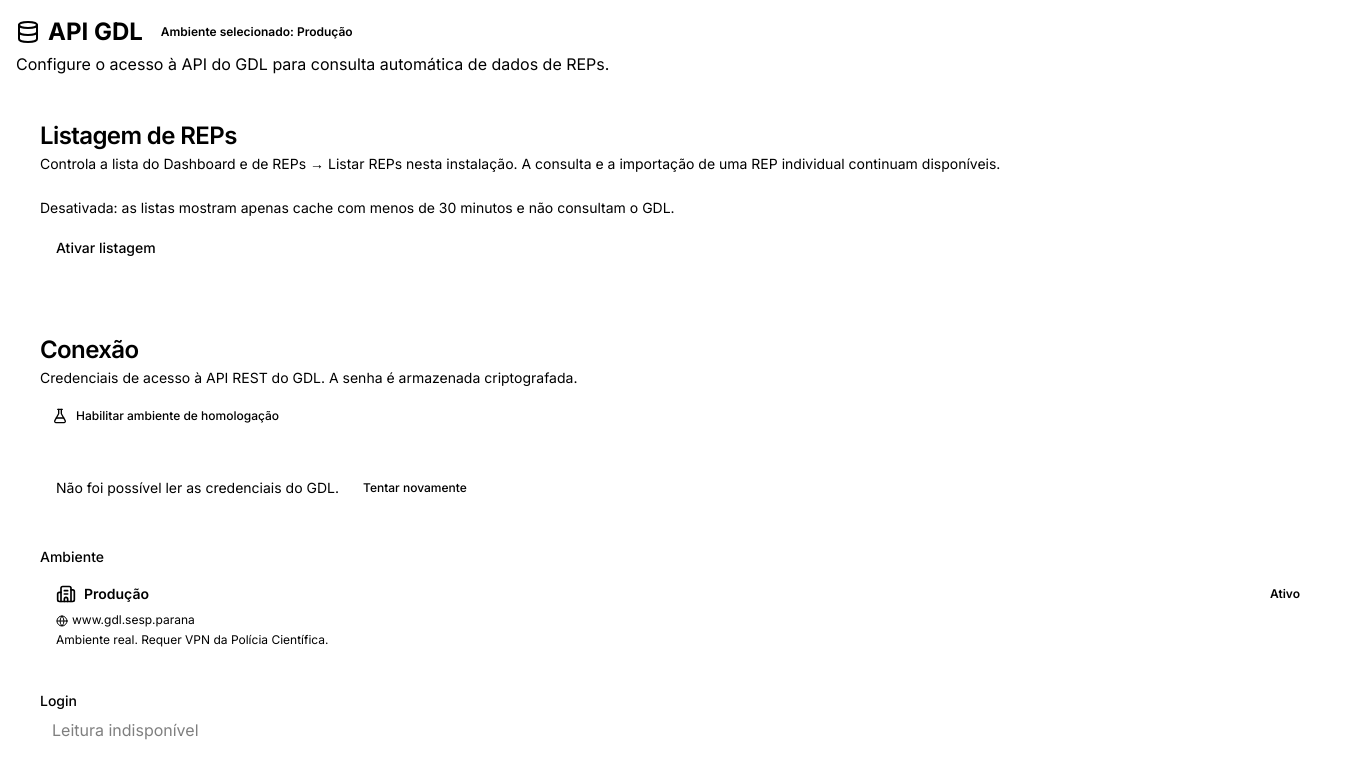
Test: GdlConfigPage › falha ao ler senha sem tratá-la como ausente e preserva edição na nova tentativa
This screenshot has width=1366, height=765.
Check: the text "Não foi possível ler as credenciais do GDL." is shown, box [56,479,339,496]
In the field labelled "Login": (683,730) [40,712,1326,748], type "edicao-local"
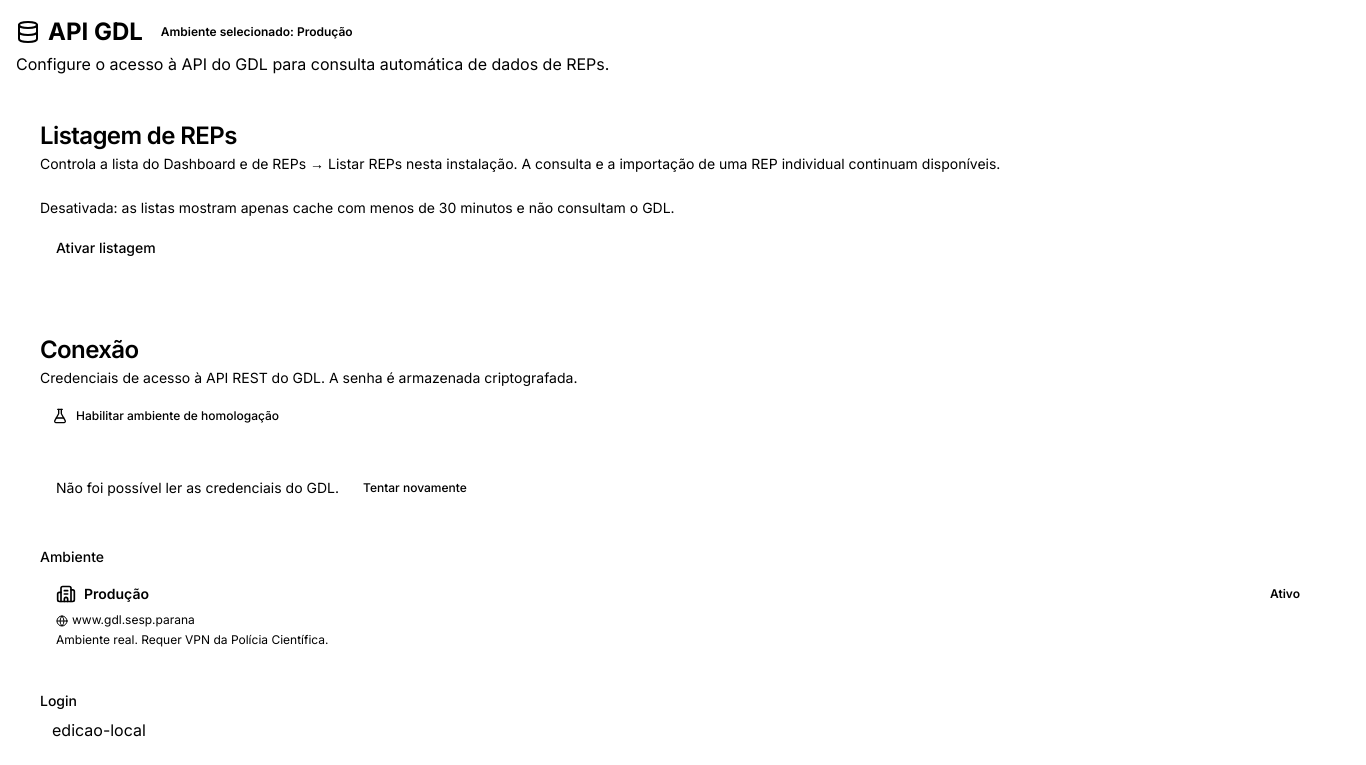
Click the button "Tentar novamente": (415,488) [351,472,479,504]
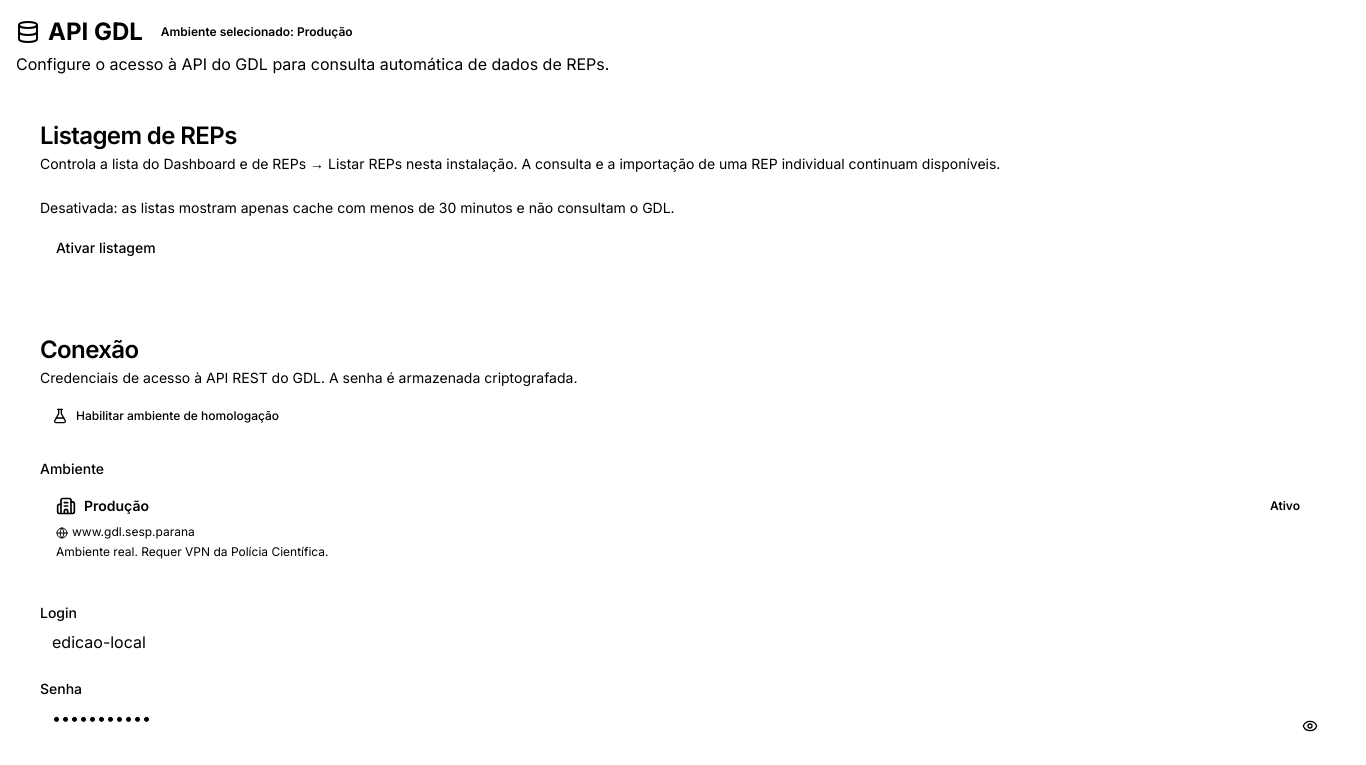
Check: the password field labelled "Senha" holds "senha-salva", box [40,700,1326,736]
